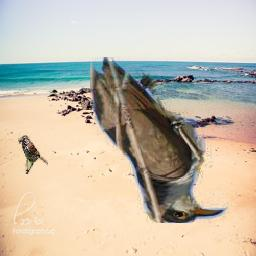Cuckoo: (91, 57, 256, 223)
Sparrow: (18, 136, 48, 175)
